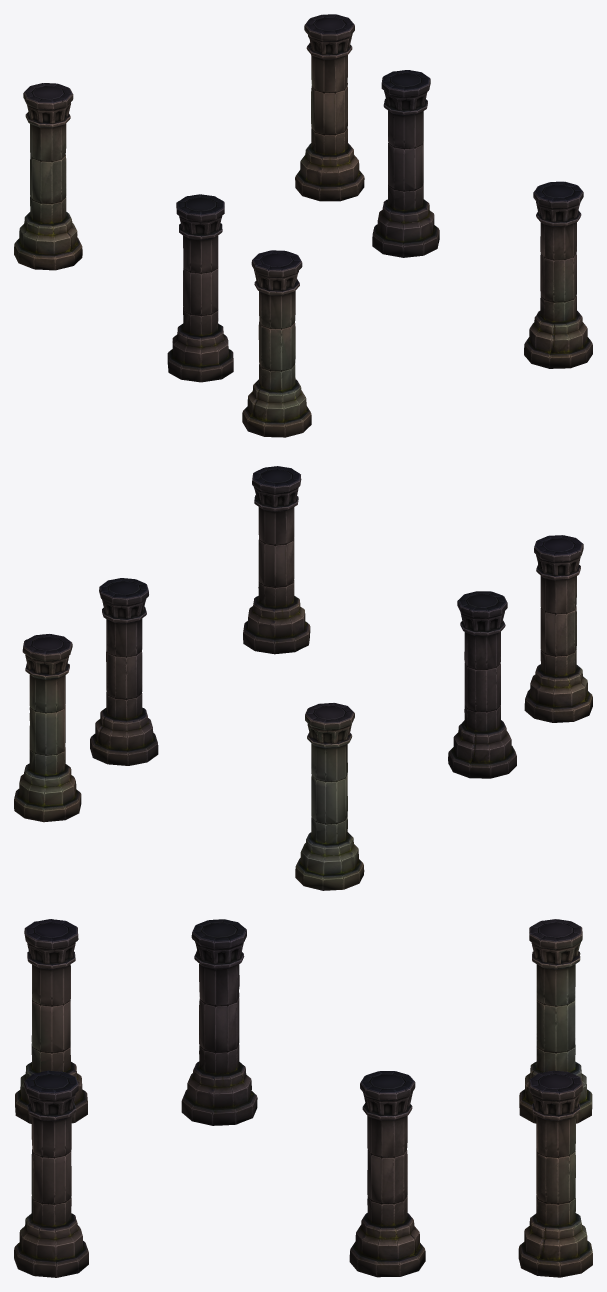
The model's file is dg_pillar_intact.glb.
3 renders of one model, top to bottom at view 1: azimuth 30°, elevation 25°; view 2: azimuth 150°, elevation 25°; view 3: azimuth 270°, elevation 25°, orthographic. The views are drawn at different scales.
Parts seen in each view (by area): view 1: COL_DGP_PILLAR_INTACT; view 2: COL_DGP_PILLAR_INTACT; view 3: COL_DGP_PILLAR_INTACT.
Part boxes in pixels (bbox=[...]): COL_DGP_PILLAR_INTACT: bbox=[14, 14, 592, 437]; COL_DGP_PILLAR_INTACT: bbox=[14, 466, 592, 890]; COL_DGP_PILLAR_INTACT: bbox=[14, 919, 592, 1277].
Size of the model in its own units: 7.76 by 3.55 by 10.33.
Materials: 1 (1 with a texture image).
